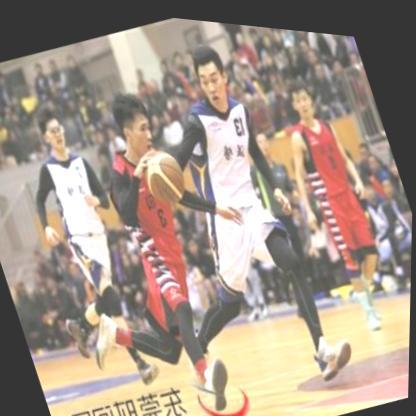basketball: (137, 140, 192, 207)
